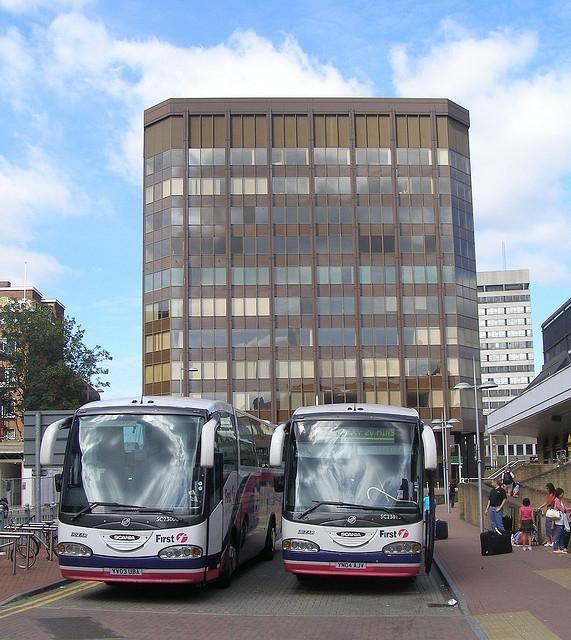bicycle: (17, 516, 58, 560), (0, 540, 36, 570)
bus: (38, 397, 283, 592), (268, 401, 436, 578)
